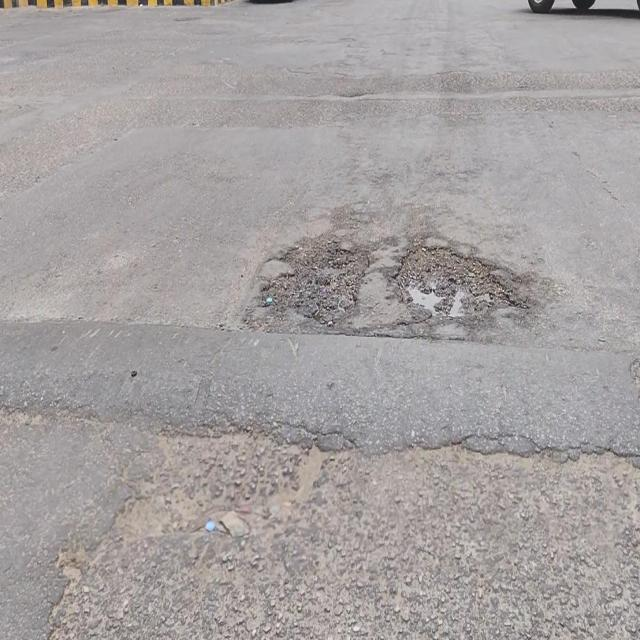Potholes: (394, 244, 515, 319), (264, 239, 365, 324)
